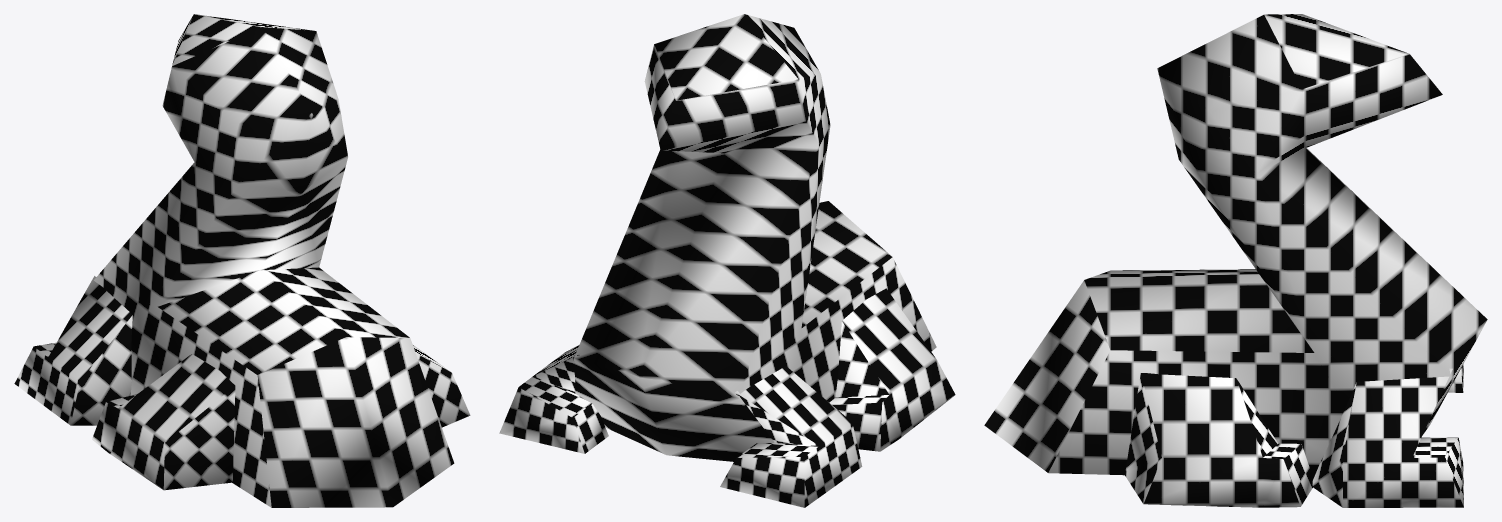
The model's file is stst124.dae.
The picture shows the model from 3 angles, left to right: view 1: azimuth 30°, elevation 25°; view 2: azimuth 150°, elevation 25°; view 3: azimuth 270°, elevation 25°; orthographic projection. The views are drawn at different scales.
Parts seen in each view (by area): view 1: snake00; view 2: snake00; view 3: snake00.
Part boxes in pixels (x1,y1,x2,y2): snake00: (14,14,470,507); snake00: (499,14,955,507); snake00: (984,14,1487,507).
Bounding box in the file's own units: 1.72 × 2.29 × 2.08.
Materials: 1 (1 with a texture image).
